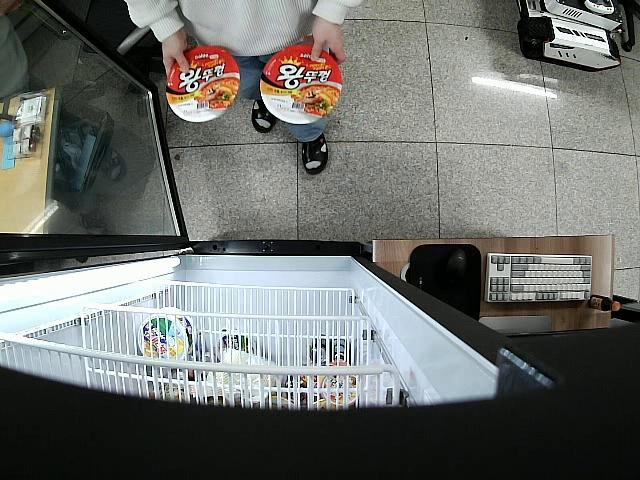00_hand: (311, 14, 345, 68), (161, 26, 191, 79)
10_wangTtukkeong: (260, 42, 343, 125), (166, 45, 239, 121)
